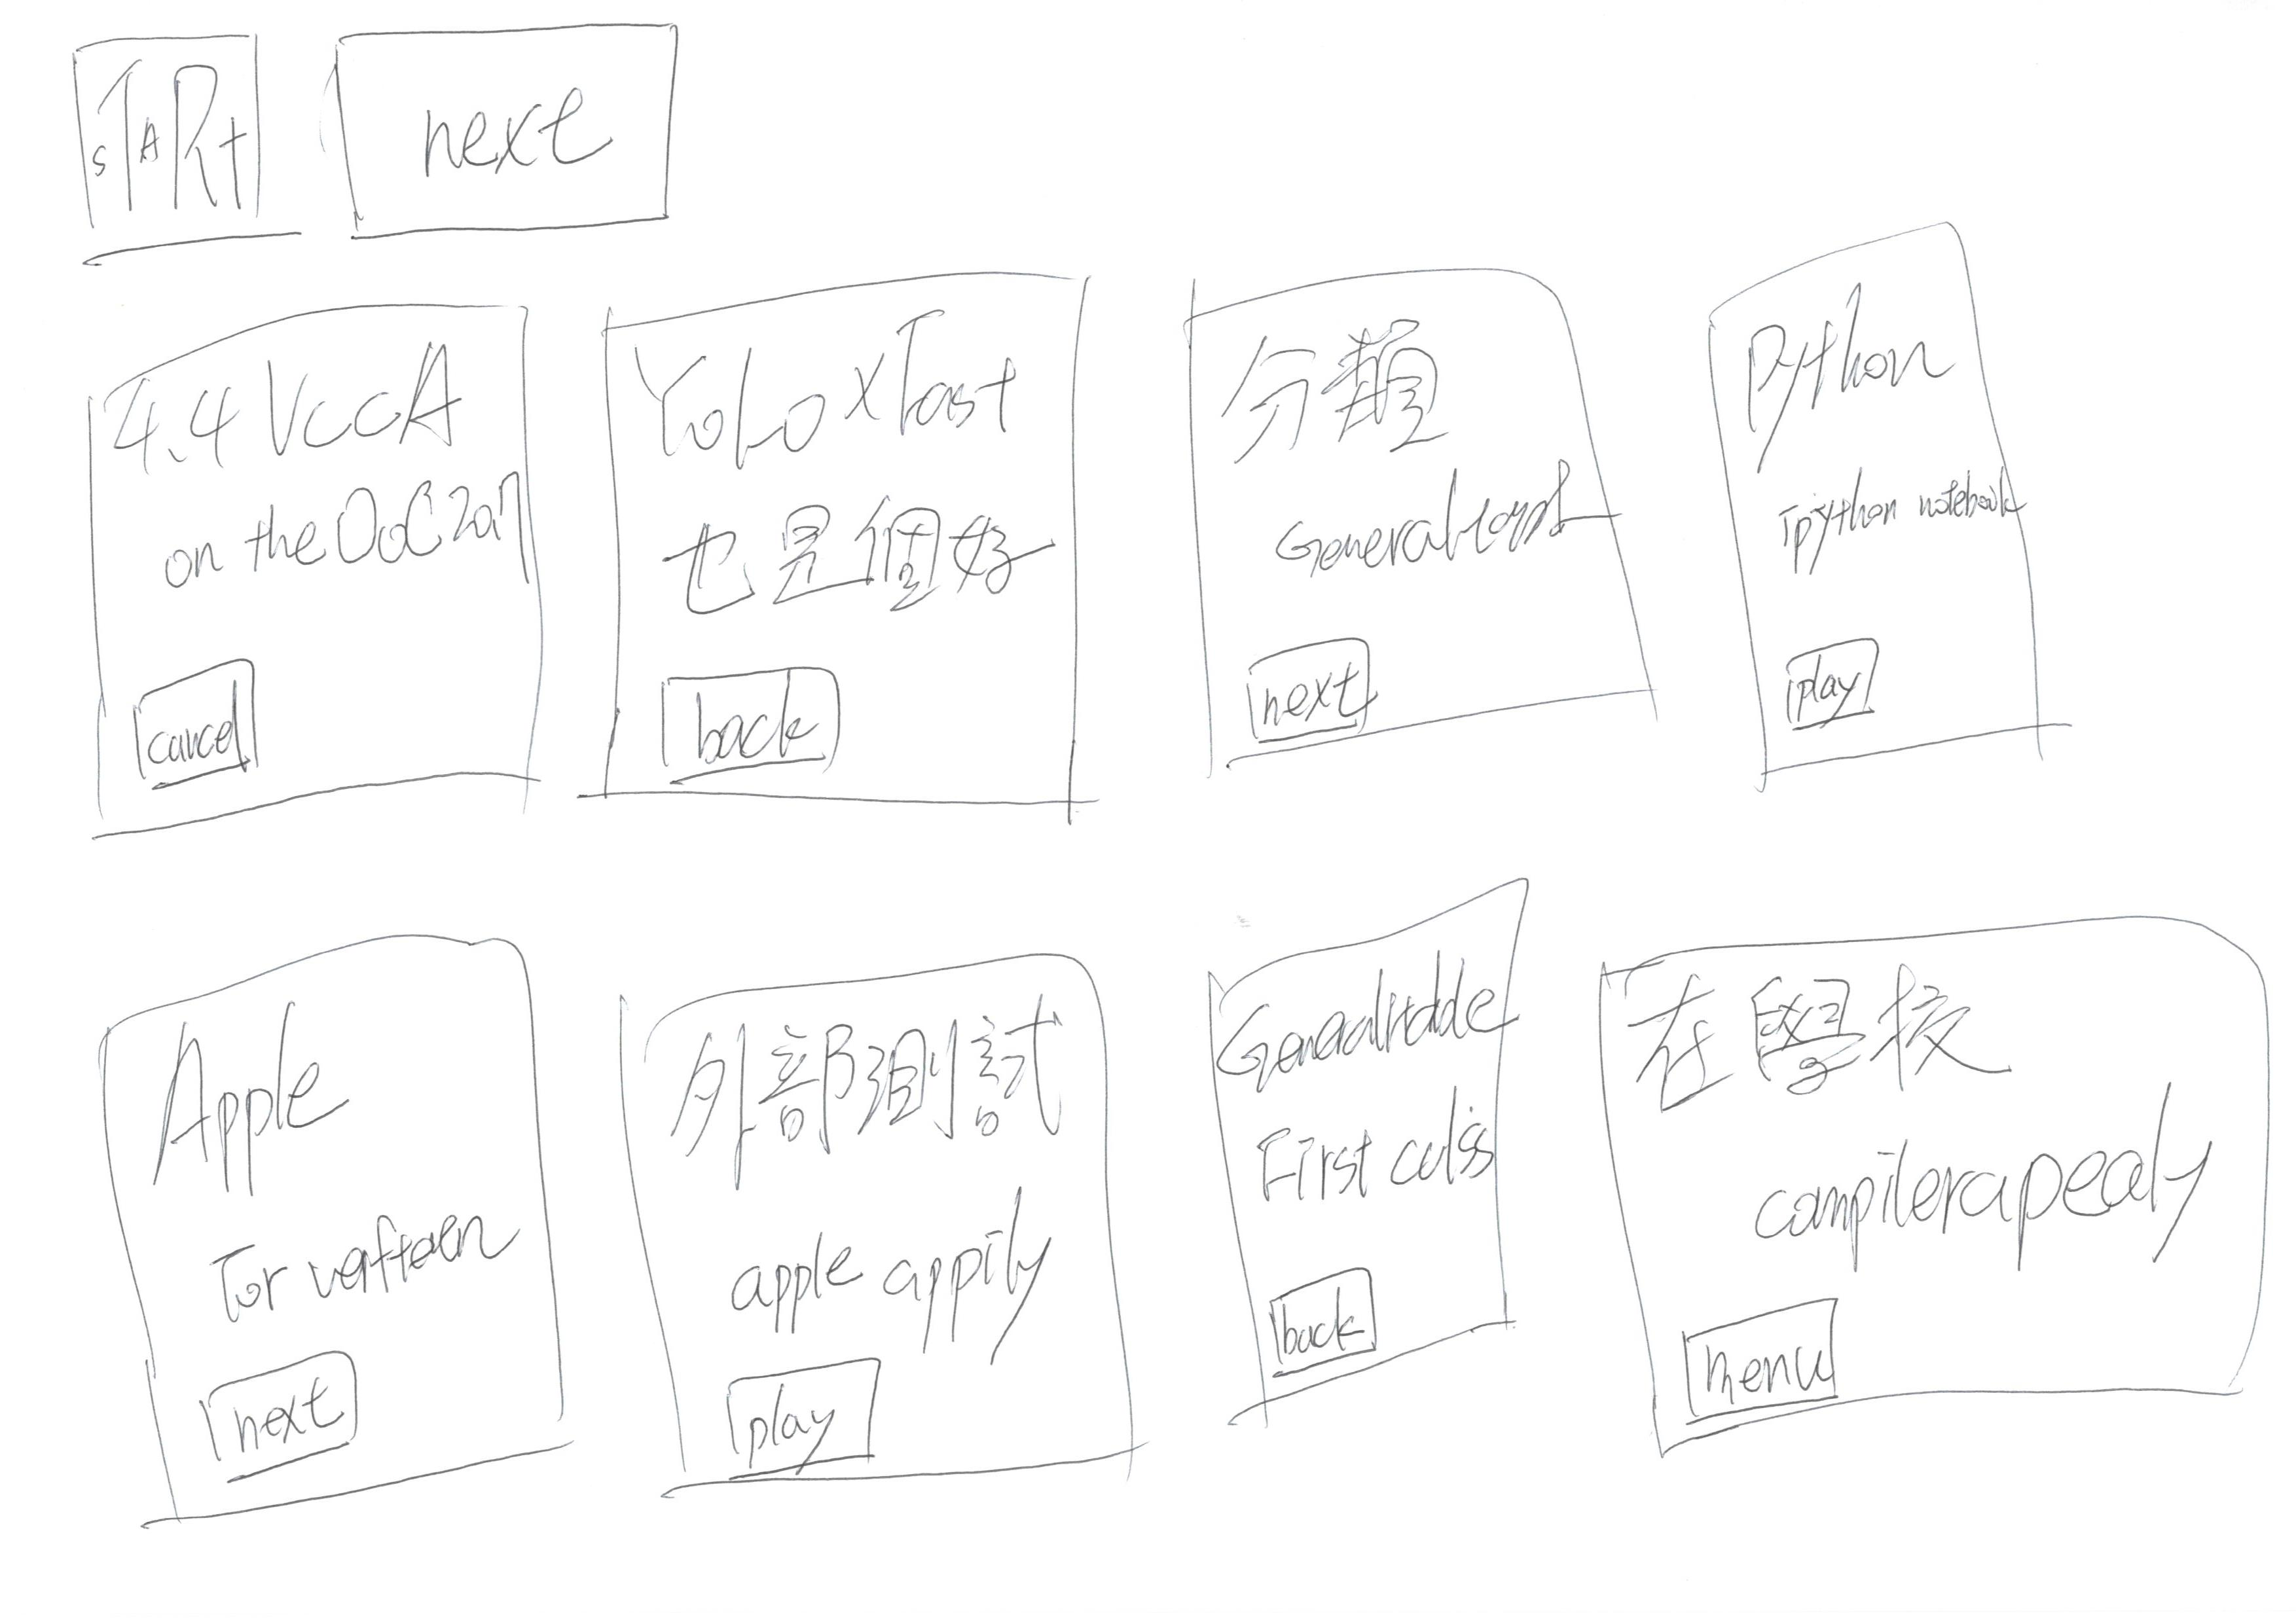back: (638, 642, 881, 801), (1259, 1251, 1399, 1394)
cancel: (113, 645, 276, 800)
menu: (1660, 1287, 1874, 1448)
next: (315, 5, 716, 269), (181, 1345, 397, 1522), (1229, 613, 1394, 761)
play: (707, 1341, 921, 1483), (1769, 626, 1911, 743)
quadruple: (1558, 879, 2296, 1513), (561, 236, 1109, 875), (47, 900, 596, 1540), (1139, 216, 1688, 854), (1649, 200, 2198, 838), (580, 917, 1129, 1555), (1155, 858, 1607, 1561), (63, 264, 564, 891)
row: (18, 162, 2291, 870), (2, 872, 2296, 1552), (12, 2, 2296, 286)
small-title: (658, 1005, 1060, 1171), (629, 323, 1050, 462), (1646, 975, 2024, 1113), (1202, 316, 1450, 475), (142, 1026, 345, 1216), (146, 367, 464, 466), (1758, 285, 1957, 432), (1215, 995, 1521, 1051)
start: (32, 32, 299, 274)
text: (670, 475, 1053, 624), (1719, 1137, 2222, 1244), (162, 468, 531, 605), (726, 1195, 1072, 1341), (181, 1204, 529, 1323), (1252, 475, 1595, 573), (1783, 459, 2008, 592), (1269, 1084, 1487, 1209)
